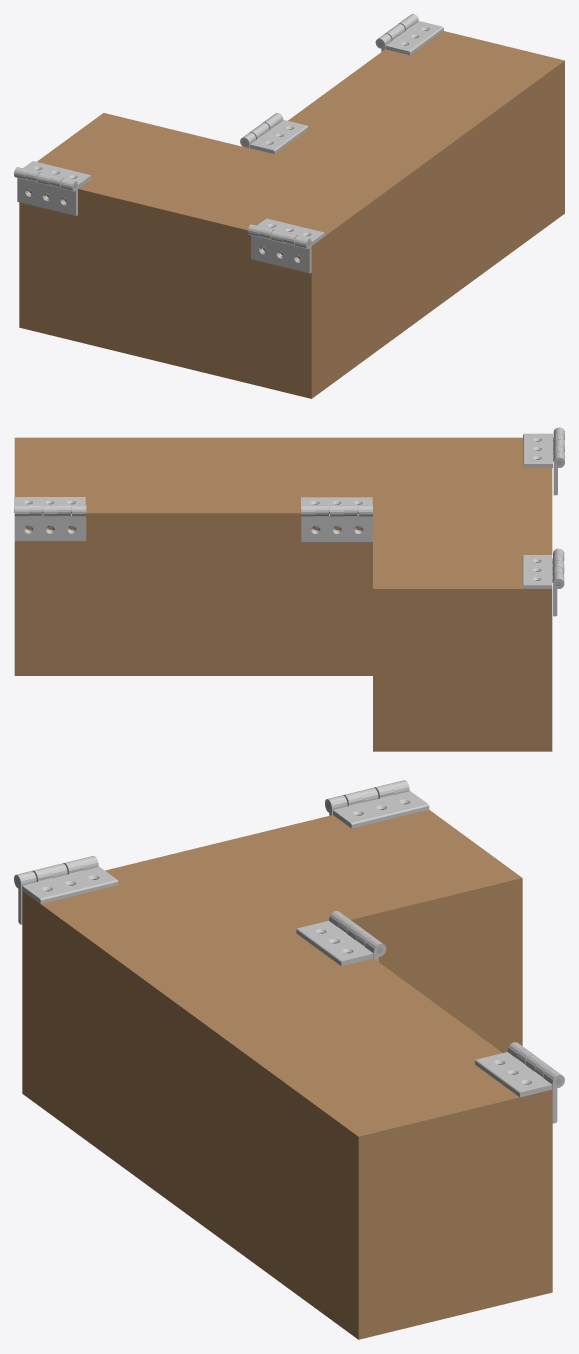
Rendered from RCJO2015RRL_L_Small.dae.
The picture shows the model from 3 angles, top to bottom: view 1: azimuth 30°, elevation 25°; view 2: azimuth 150°, elevation 25°; view 3: azimuth 270°, elevation 25°; orthographic projection. The views are drawn at different scales.
Parts seen in each view (by area): view 1: Group202, Group197, Group206, Group203, weight_1_1, weight_2_2, __08, Group167, Group204, Weight2_1_, Group171, Group205; view 2: Group199, Group201, Group203, Group206, weight_2_1, huta100001, Weight2_1_, Group171, Group205, Group167, __08, Group204 (+4 smaller); view 3: Group197, Group206, Group203, Group198, Group200, Group171, Weight2_1_, Group167, __08, Group205, weight_1_1, huta100001 (+1 smaller).
Part boxes in pixels (bbox=[...]): Group202: bbox=[21, 190, 312, 396]; Group197: bbox=[313, 63, 564, 395]; Group206: bbox=[250, 31, 564, 186]; Group203: bbox=[37, 113, 395, 247]; weight_1_1: bbox=[247, 224, 311, 273]; weight_2_2: bbox=[14, 167, 77, 215]; __08: bbox=[385, 18, 443, 55]; Group167: bbox=[249, 117, 308, 153]; Group204: bbox=[19, 325, 395, 398]; Weight2_1_: bbox=[257, 218, 325, 245]; Group171: bbox=[23, 161, 91, 188]; Group205: bbox=[396, 211, 564, 336]; Group199: bbox=[17, 516, 372, 673]; Group201: bbox=[376, 591, 552, 748]; Group203: bbox=[373, 437, 552, 591]; Group206: bbox=[14, 437, 372, 515]; weight_2_1: bbox=[301, 505, 372, 542]; huta100001: bbox=[14, 505, 86, 541]; Weight2_1_: bbox=[523, 433, 564, 467]; Group171: bbox=[522, 554, 563, 588]; Group205: bbox=[14, 673, 372, 675]; Group167: bbox=[301, 497, 372, 516]; __08: bbox=[14, 497, 85, 515]; Group204: bbox=[373, 749, 552, 751]; Group197: bbox=[24, 895, 361, 1336]; Group206: bbox=[134, 933, 552, 1139]; Group203: bbox=[22, 810, 522, 975]; Group198: bbox=[361, 1092, 552, 1335]; Group200: bbox=[354, 881, 522, 1052]; Group171: bbox=[333, 783, 429, 828]; Weight2_1_: bbox=[22, 859, 118, 903]; Group167: bbox=[296, 917, 374, 966]; __08: bbox=[475, 1049, 552, 1097]; Group205: bbox=[134, 1173, 552, 1339]; weight_1_1: bbox=[14, 856, 98, 924]; huta100001: bbox=[507, 1042, 564, 1123].
Bounding box in the file's own units: 0.0914 × 0.0615 × 0.0266.
